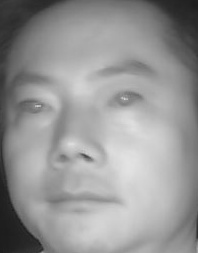eye: (103, 86, 145, 115), (13, 95, 53, 122)
mouth: (38, 180, 122, 221)
